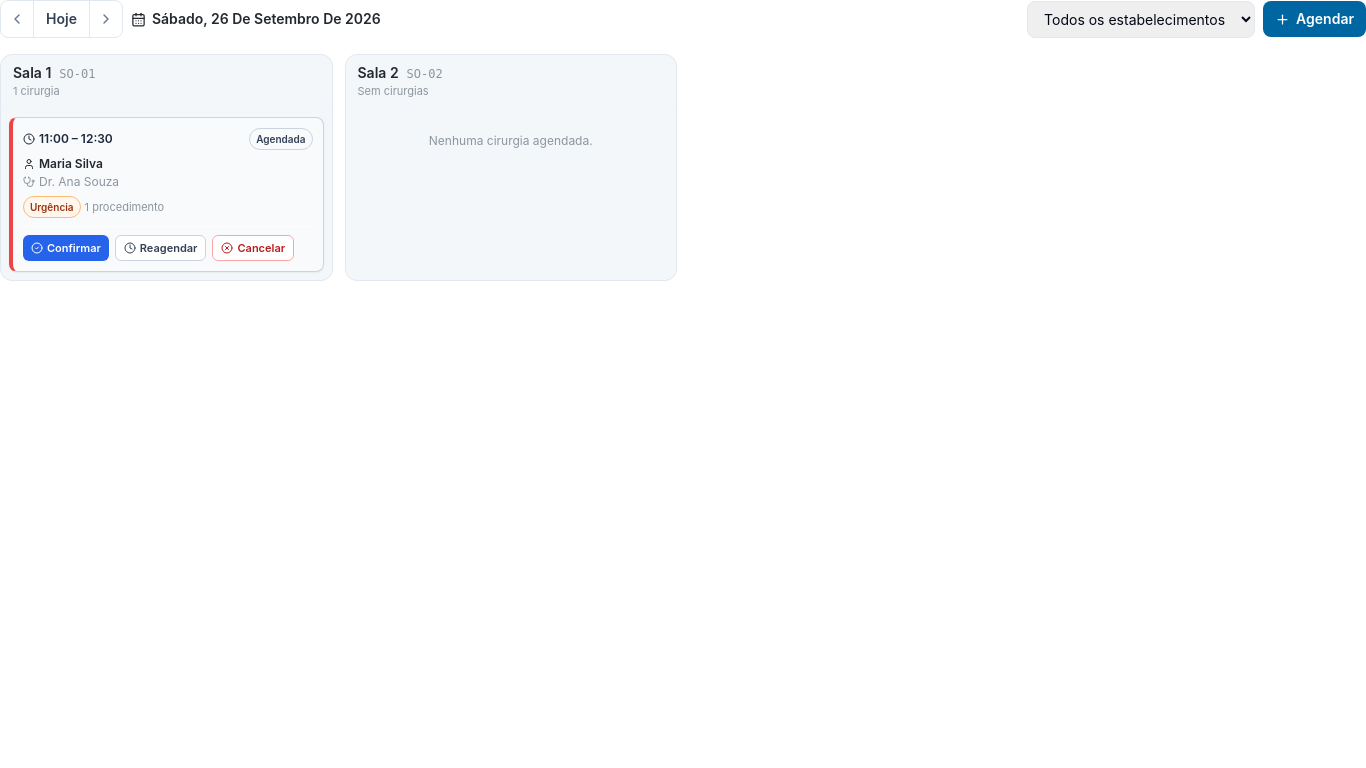
Test: SurgicalBoard › opens the cancel modal from a case block
Expected: the text "Maria Silva" is shown, x1=23 y1=156 x2=103 y2=170
Click the button "Cancelar".
click(253, 248)  # box x1=212 y1=234 x2=294 y2=260
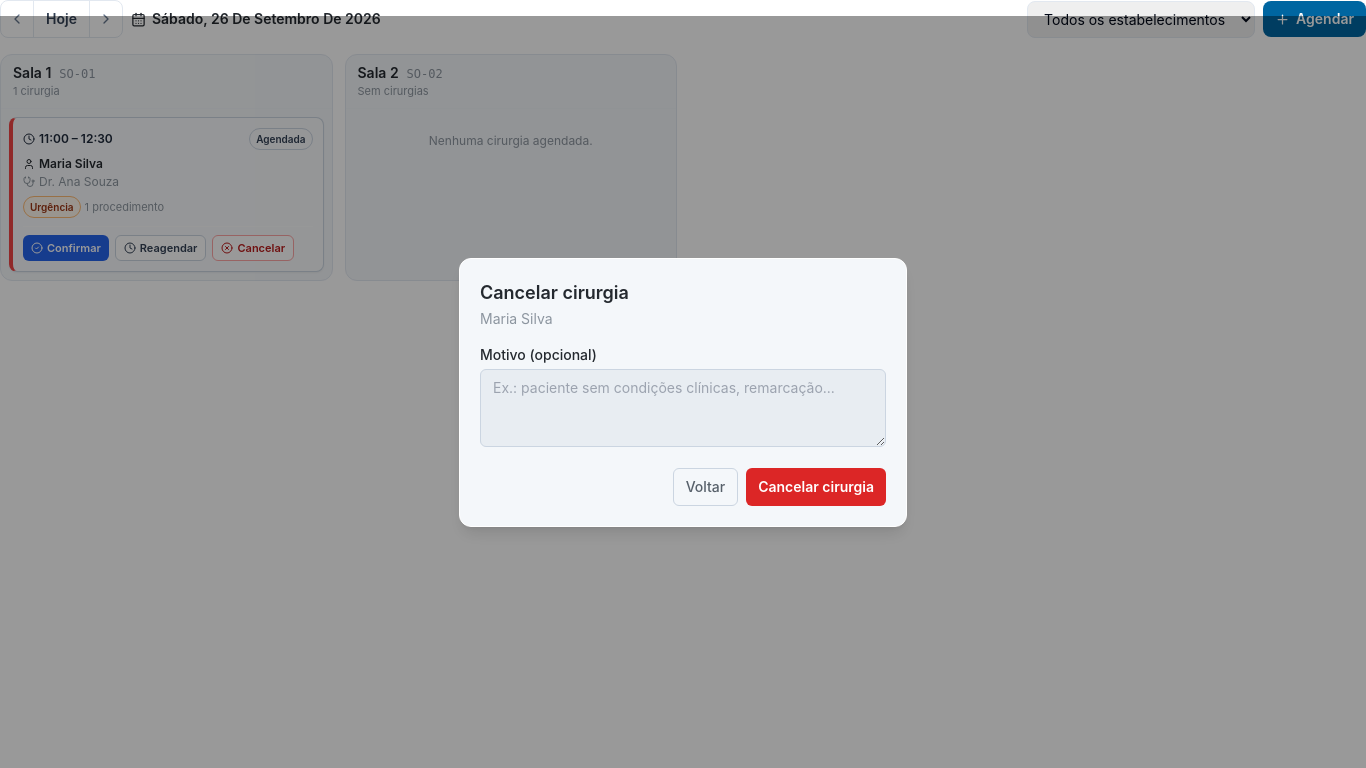
Expected: the dialog "Cancelar cirurgia" is shown
